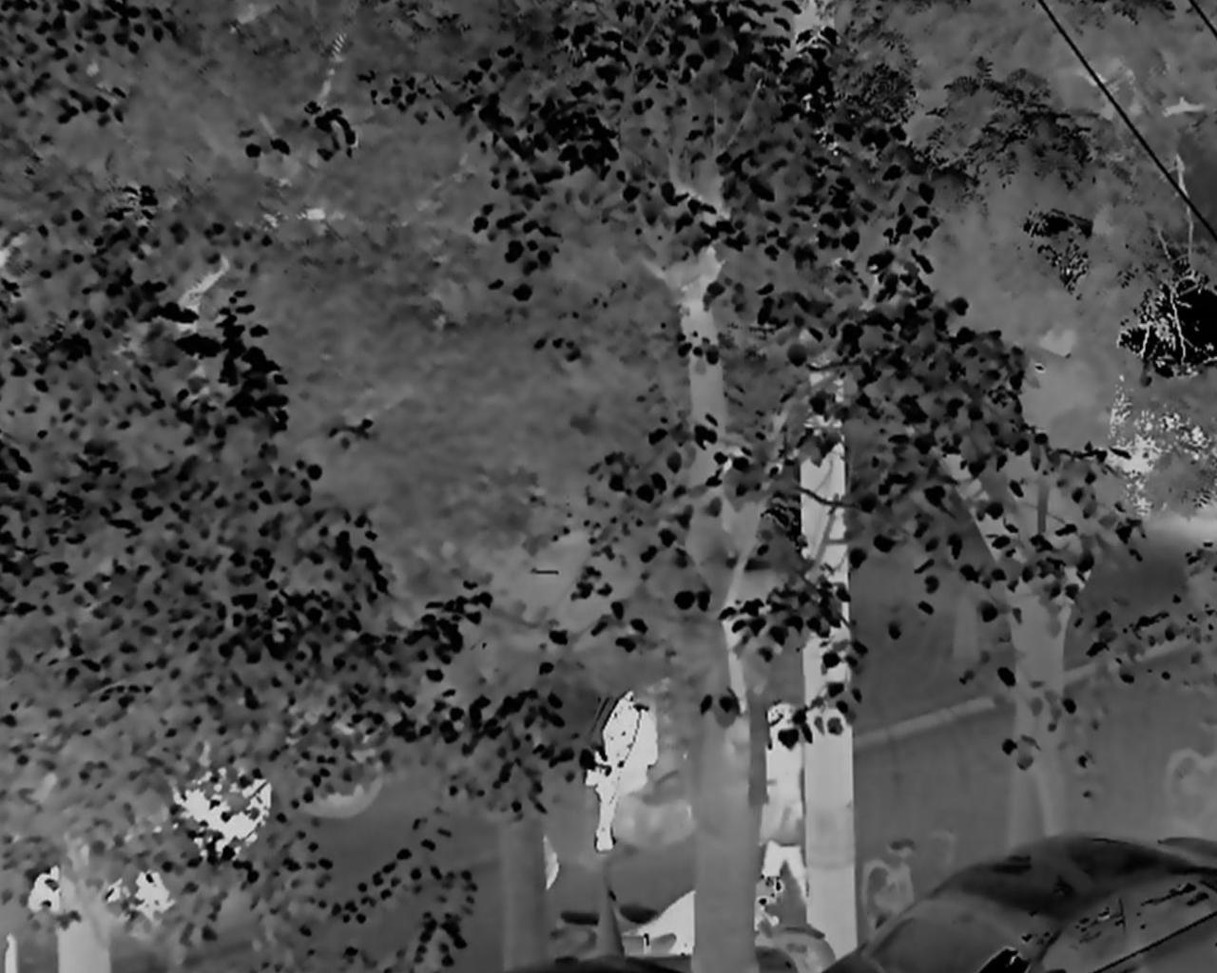person: (586, 689, 657, 852), (761, 699, 808, 907)
